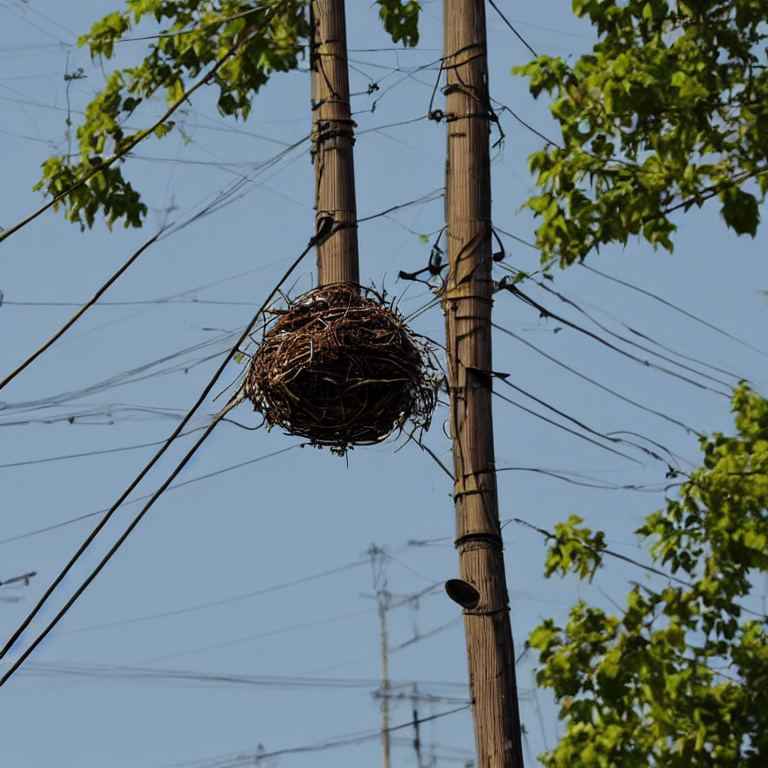nest: (253, 299, 435, 446)
